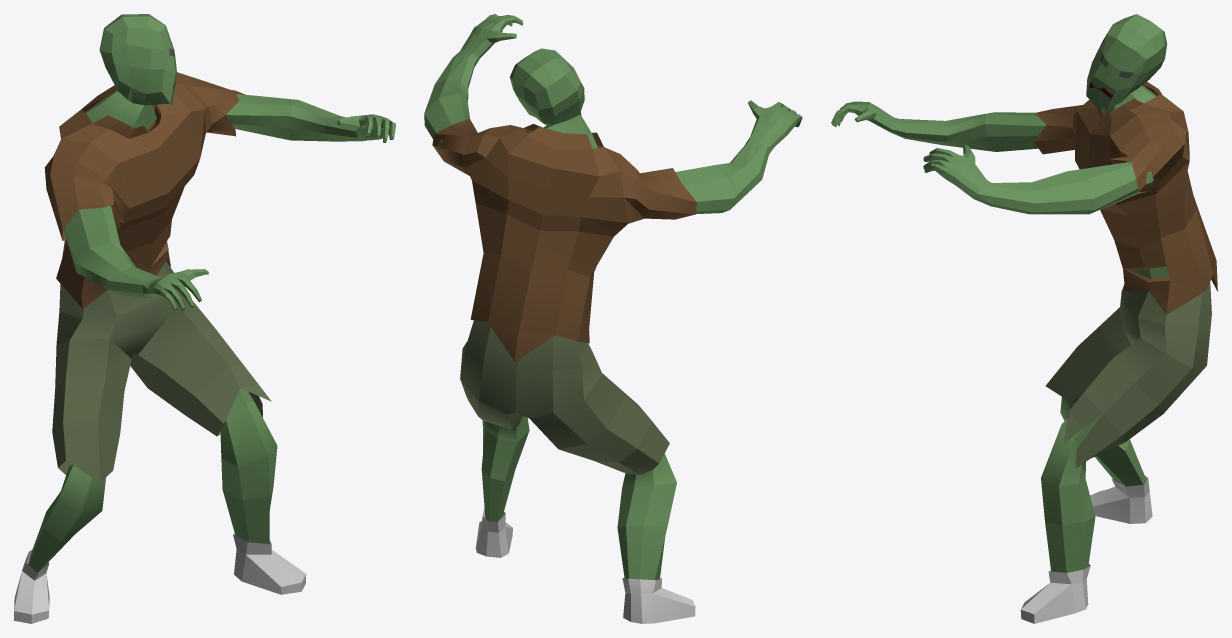
Rendered from ZombieAttack(90).obj.
3 views of the same model, side by side, from view 1: azimuth 30°, elevation 25°; view 2: azimuth 150°, elevation 25°; view 3: azimuth 270°, elevation 25° (orthographic). The views are drawn at different scales.
Parts seen in each view (by area): view 1: Object001; view 2: Object001; view 3: Object001.
Boxes of the visible parts, <box> form: Object001: <box>14,14,395,623</box>; Object001: <box>424,14,802,623</box>; Object001: <box>831,14,1217,623</box>.
Size of the model in its own units: 31.11 by 54.26 by 34.7.
